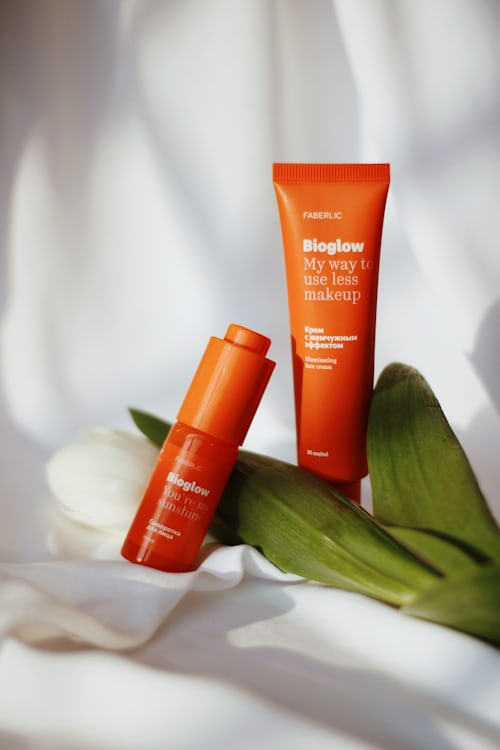Bottle: (118, 326, 276, 570)
Cream: (253, 154, 408, 515)
